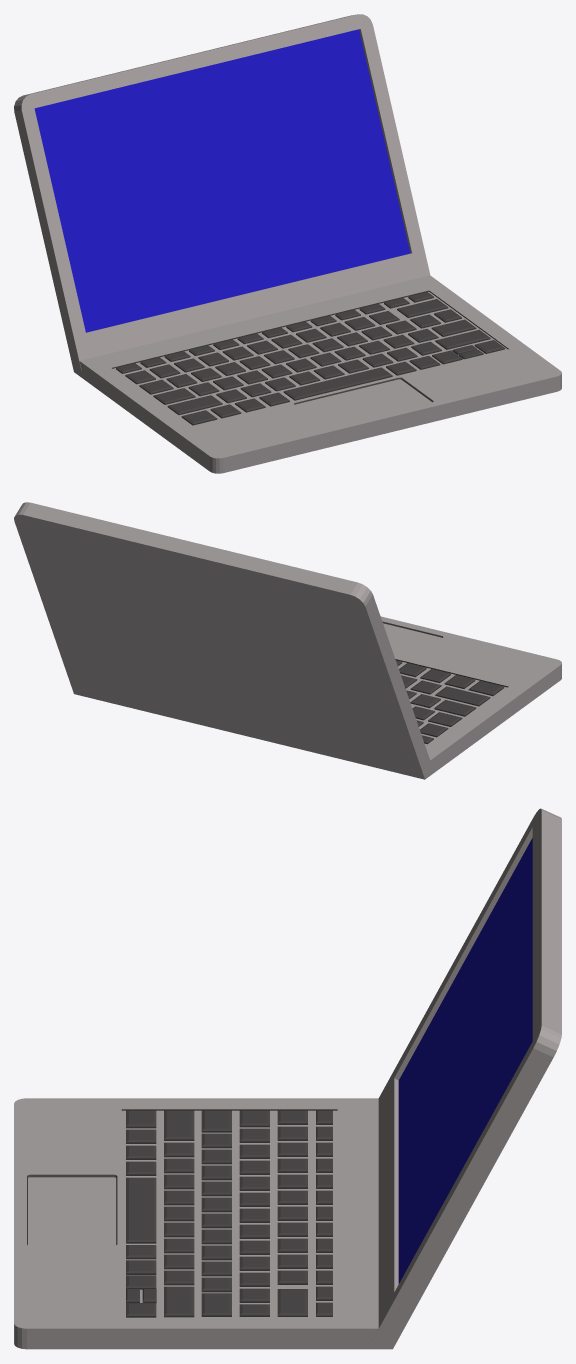
File: laptop.glb
3 renders of one model, top to bottom at view 1: azimuth 30°, elevation 25°; view 2: azimuth 150°, elevation 25°; view 3: azimuth 270°, elevation 25°, orthographic. The views are drawn at different scales.
Visible parts, largest first — view 1: Laptop Bottom.002; view 2: Laptop Bottom.002; view 3: Laptop Bottom.002.
Boxes of the visible parts, x1,y1,x2,y2 form: Laptop Bottom.002: (14, 14, 561, 473); Laptop Bottom.002: (14, 502, 561, 779); Laptop Bottom.002: (14, 808, 561, 1349).
Bounding box in the file's own units: 0.3604 × 0.2304 × 0.3617.
